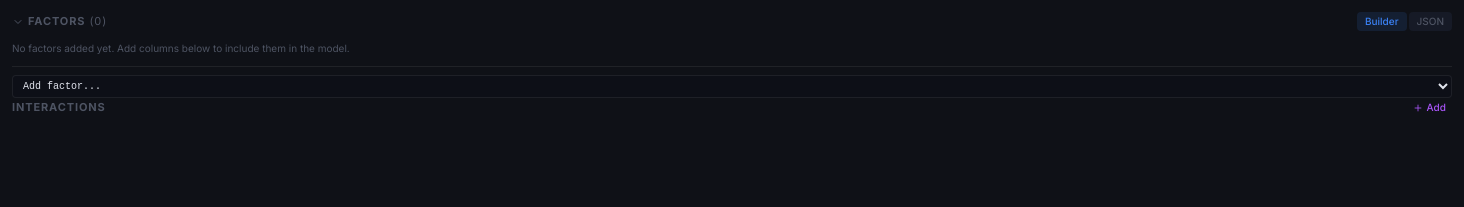
Scenario: GLMFactorConfig › switching to JSON mode shows textarea
This screenshot has width=1464, height=207.
Click the button "JSON" at (1430,22), box [1408,12,1452,31]
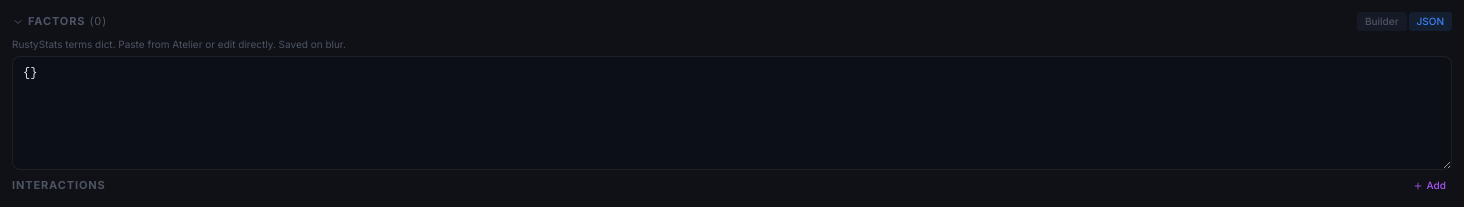
Check: the text "RustyStats terms dict" is shown, box [12,38,346,50]
Check: the text box is shown, box [12,56,1452,170]
